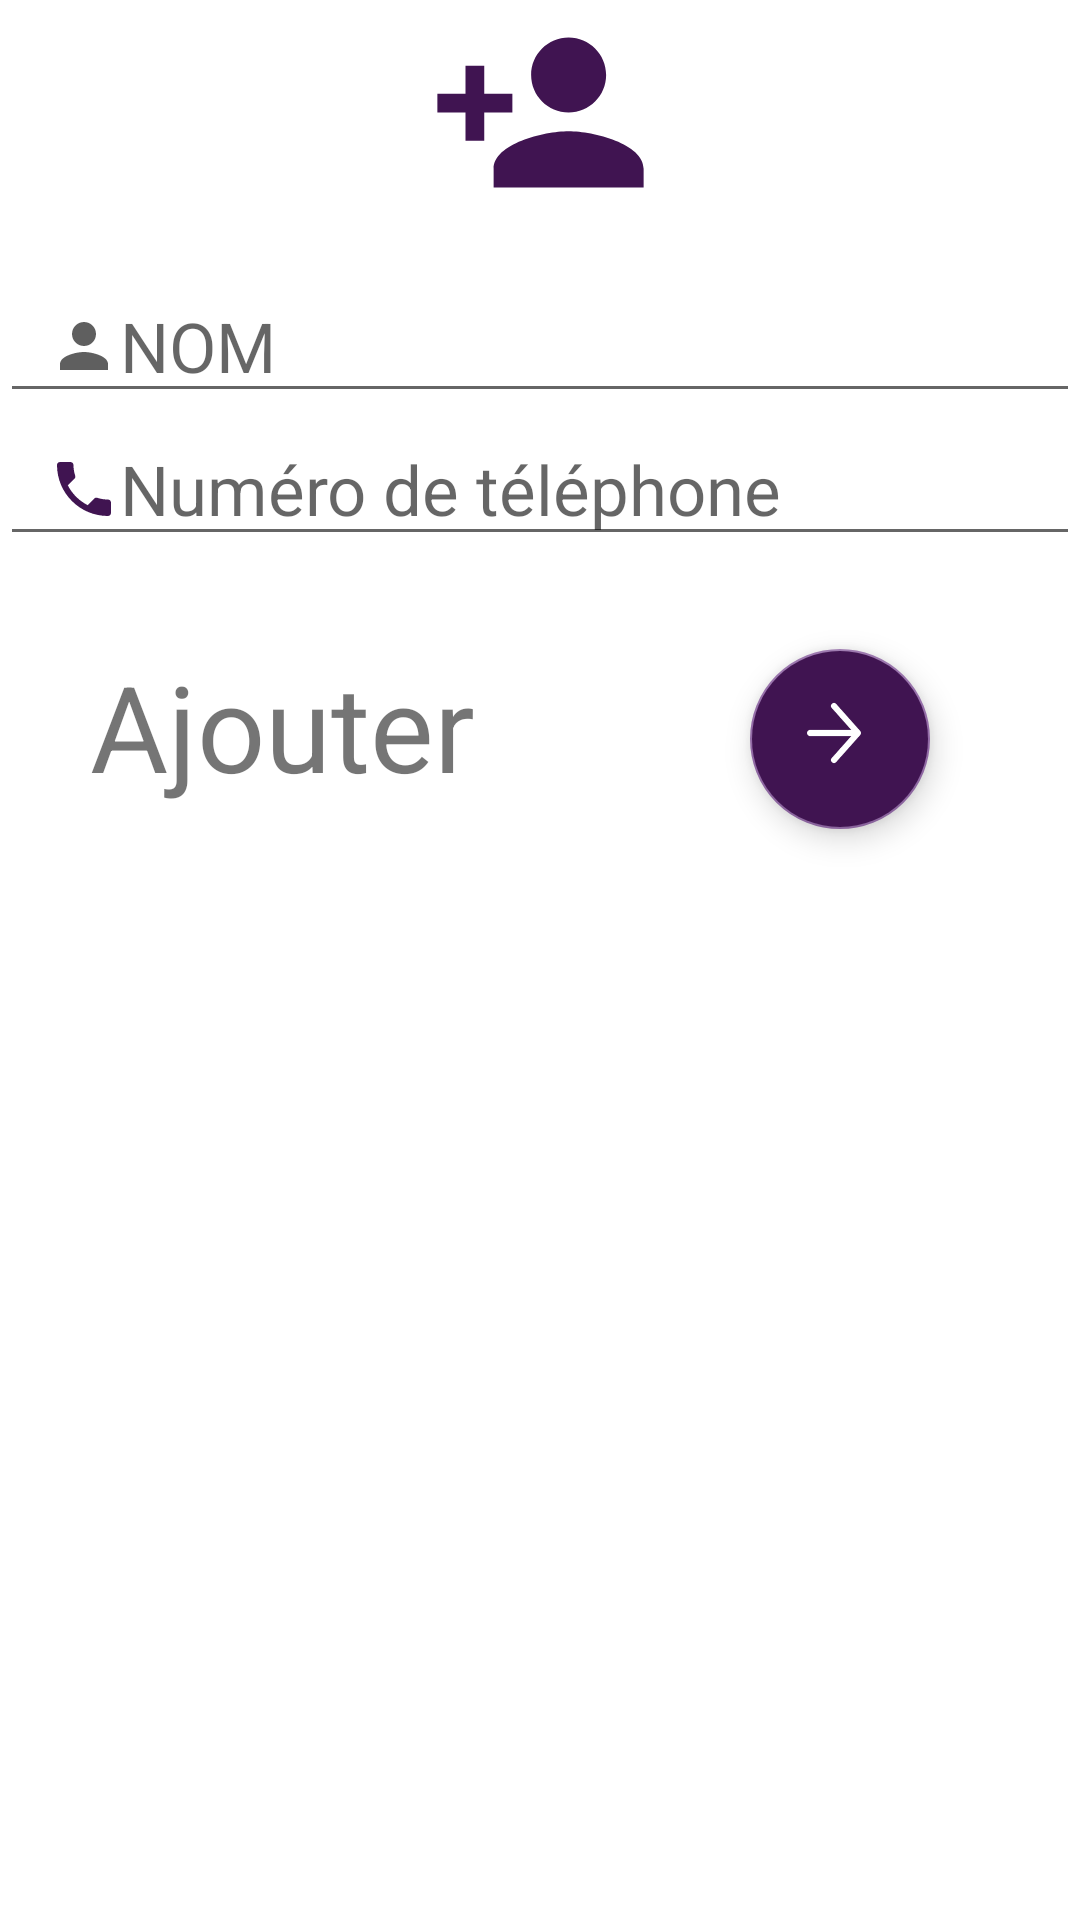

Screen size 1080 x 1920. Icon name, then its box in pixels as (x1, y1, x2, y2):
forward: (750, 649, 930, 829)
person add: (437, 37, 644, 188)
